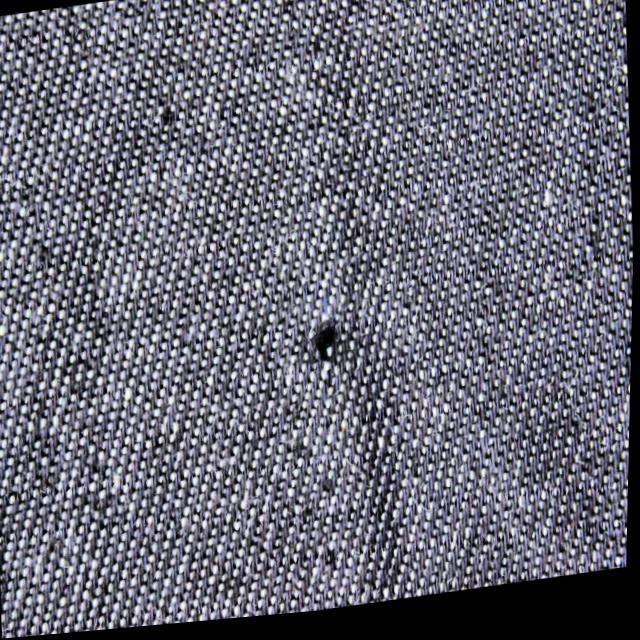Hole: (292, 275, 366, 403)
